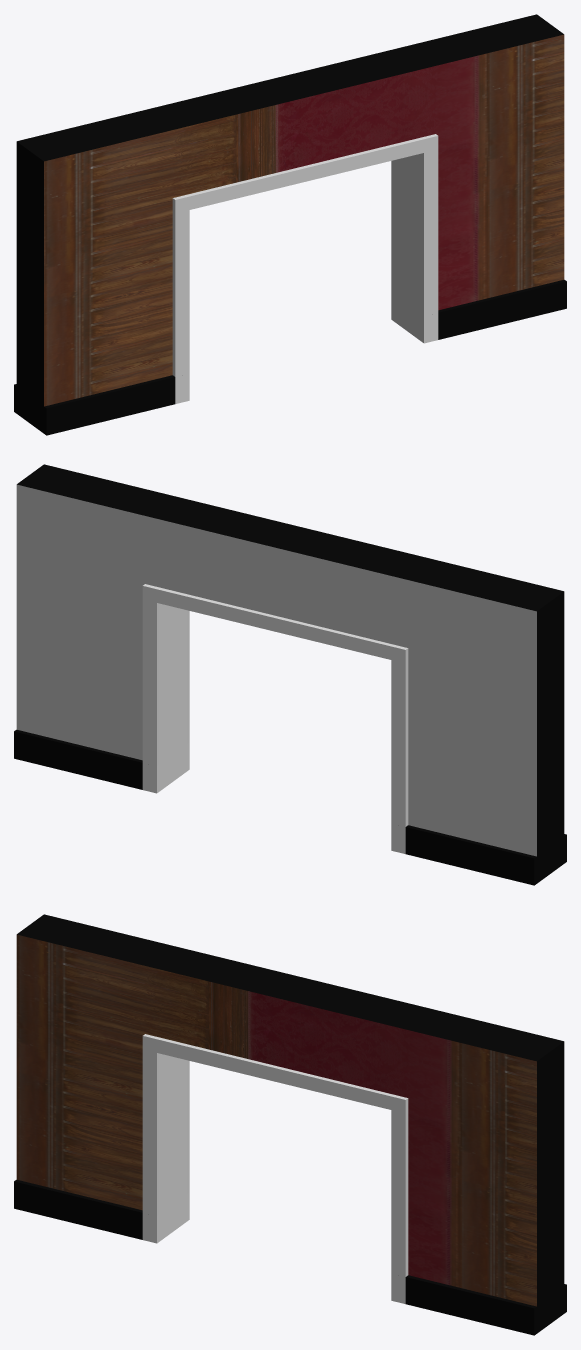
File: 2Door_cadran 1.fbx
3 renders of one model, top to bottom at view 1: azimuth 30°, elevation 25°; view 2: azimuth 150°, elevation 25°; view 3: azimuth 330°, elevation 25°, orthographic.
Visible parts, largest first — view 1: Wall_Door_002__1_; view 2: Wall_Door_002__1_; view 3: Wall_Door_002__1_.
Part boxes in pixels (<box>): Wall_Door_002__1_: <box>14,14,566,435</box>; Wall_Door_002__1_: <box>14,464,566,885</box>; Wall_Door_002__1_: <box>14,914,566,1335</box>.
Bounding box in the file's own units: 600 × 300 × 65.
